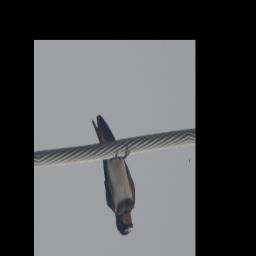Swallow: (91, 111, 137, 239)
